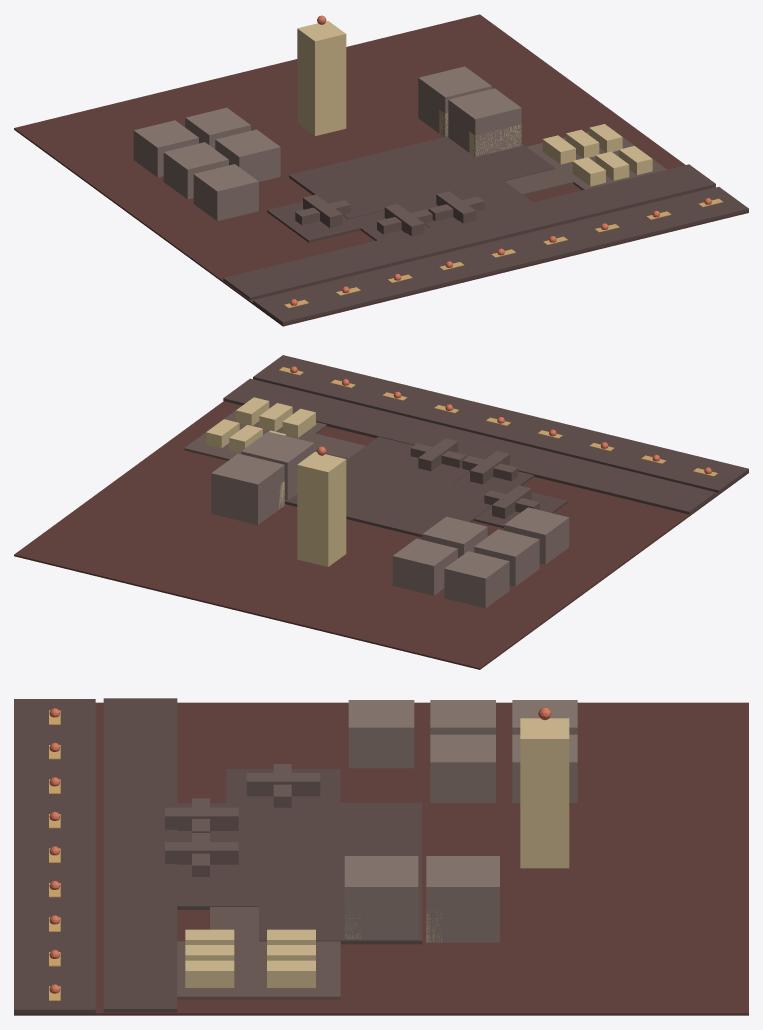
The model's file is stage_19.glb.
The picture shows the model from 3 angles, top to bottom: view 1: azimuth 30°, elevation 25°; view 2: azimuth 150°, elevation 25°; view 3: azimuth 270°, elevation 25°; orthographic projection. The views are drawn at different scales.
Parts seen in each view (by area): view 1: geometry_0; view 2: geometry_0; view 3: geometry_0.
Part boxes in pixels (x1,y1,x2,y2): geometry_0: [14, 14, 748, 326]; geometry_0: [14, 355, 748, 669]; geometry_0: [14, 698, 748, 1015].
Size of the model in its own units: 9 by 2.06 by 9.
